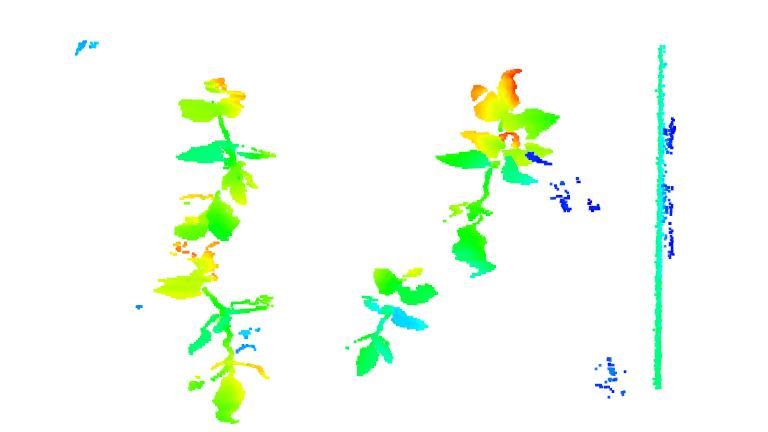mungbean: (432, 66, 561, 279), (153, 239, 274, 427), (164, 77, 274, 244), (347, 261, 442, 379)
